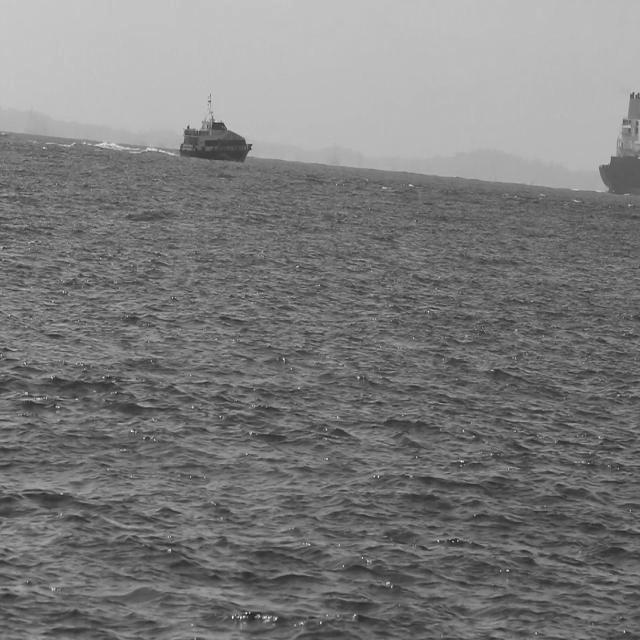ship: (178, 87, 255, 163), (594, 86, 639, 196)
